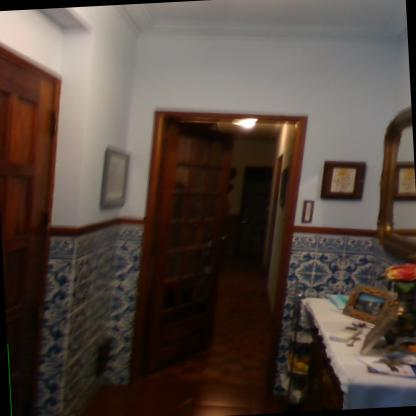semi: (125, 84, 332, 404)
